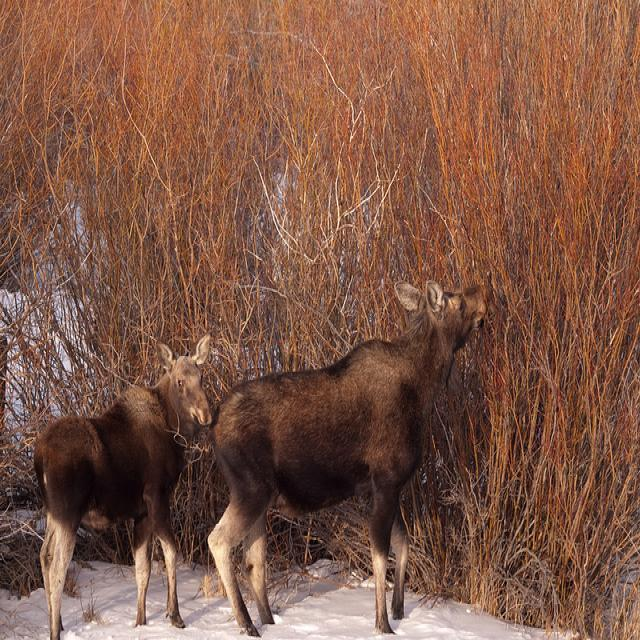cow: (205, 279, 494, 631), (31, 335, 212, 629)
